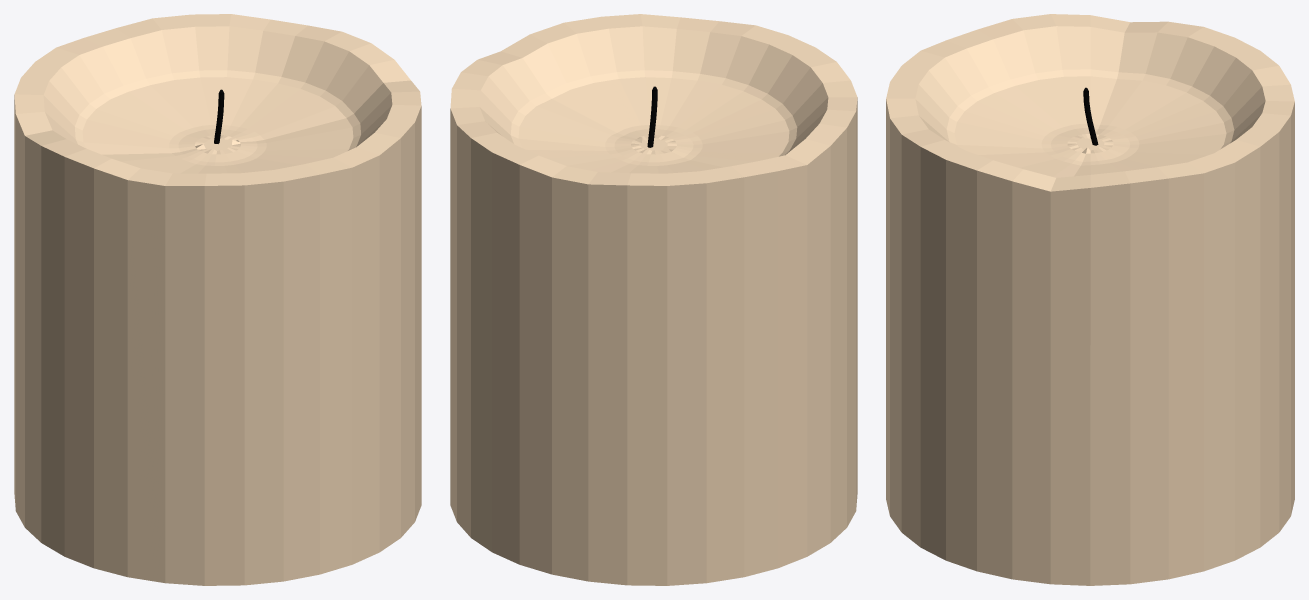
The model's file is Bed cabinet candle.fbx.
The picture shows the model from 3 angles, left to right: view 1: azimuth 30°, elevation 25°; view 2: azimuth 150°, elevation 25°; view 3: azimuth 270°, elevation 25°; orthographic projection.
Parts seen in each view (by area): view 1: Candle; view 2: Candle; view 3: Candle.
Part boxes in pixels (x1=…): Candle: x1=14, y1=14, x2=421, y2=585; Candle: x1=450, y1=14, x2=857, y2=585; Candle: x1=886, y1=14, x2=1294, y2=585.
Size of the model in its own units: 19.89 by 22.11 by 19.89.
